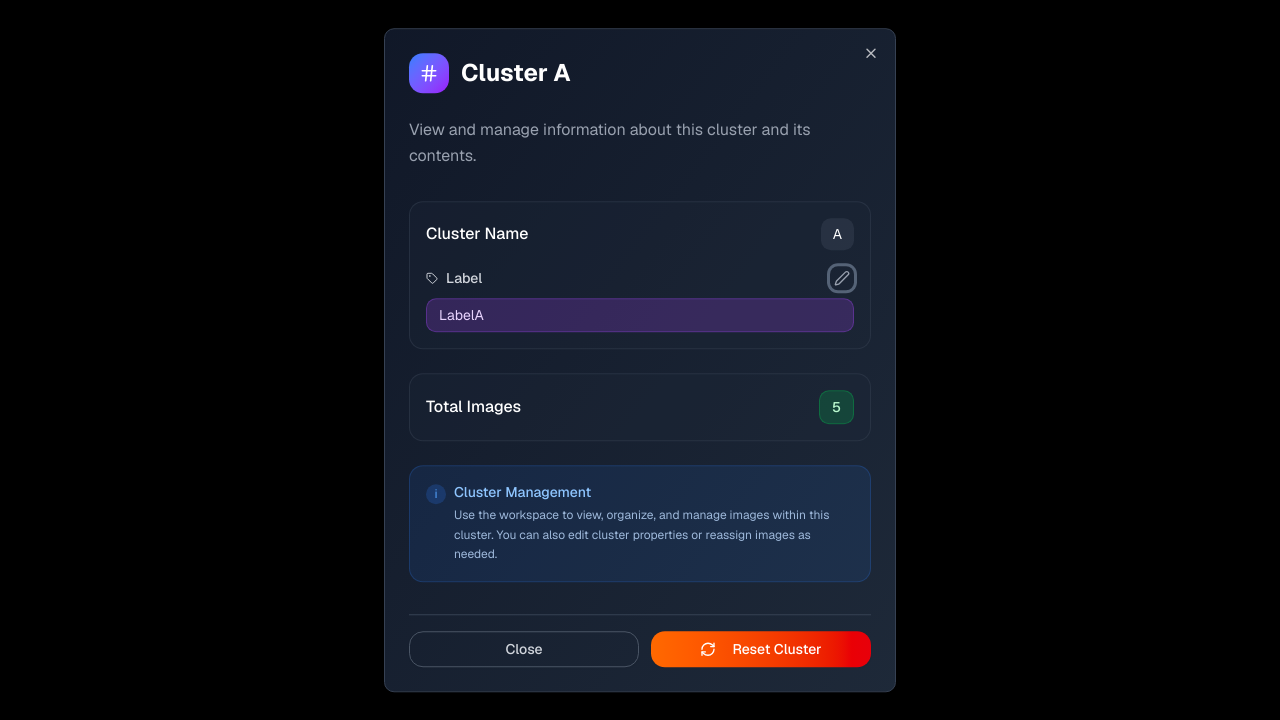
ClusterInfoDialog › shows reset cluster dialog when Reset Cluster is clicked
Click the button with test id "reset-cluster-button" at (761, 649), box [651,631,871,667]
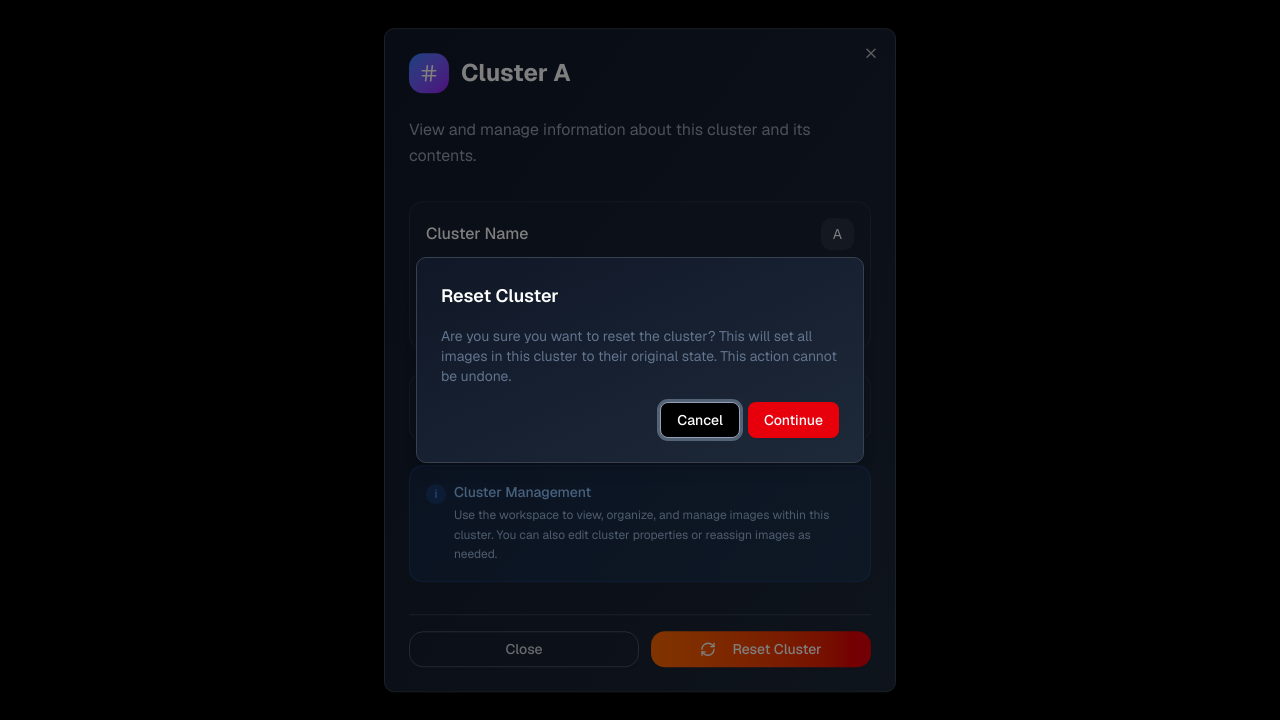
Now the text "Are you sure you want to reset the cluster" is shown, box [441,327,837,385]
Now the button "Continue" is shown, box [748,402,839,438]
Now the button "Cancel" is shown, box [660,402,740,438]
